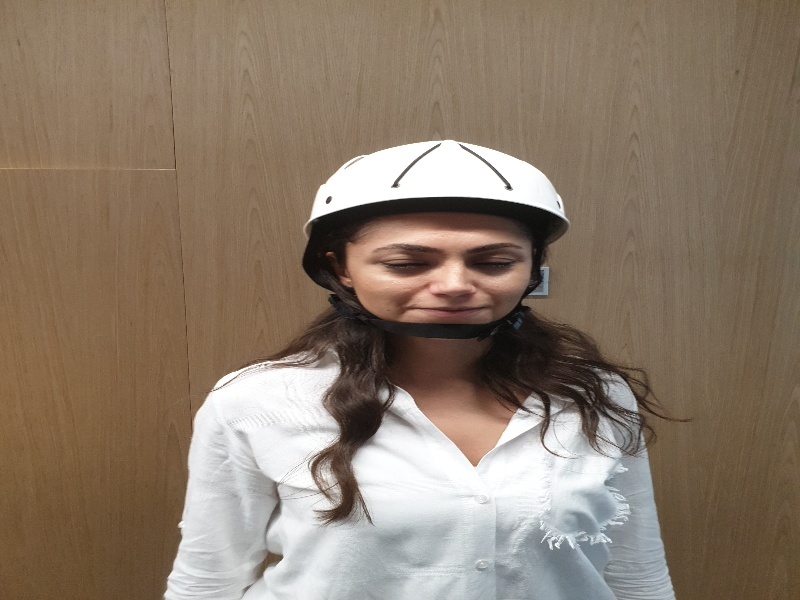Baret: (301, 140, 572, 233)
